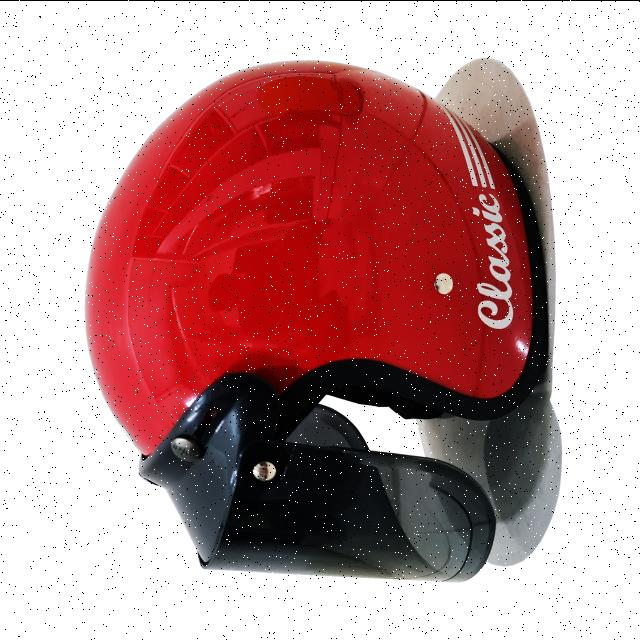Helmet: (85, 57, 551, 584)
